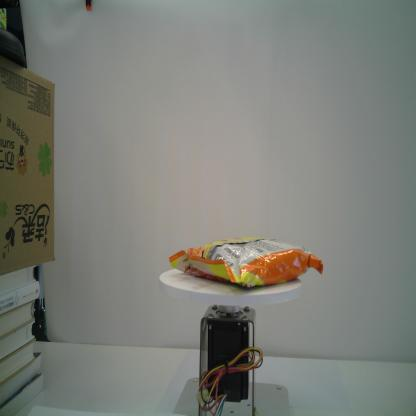Instant Noodles: (169, 236, 323, 287)
